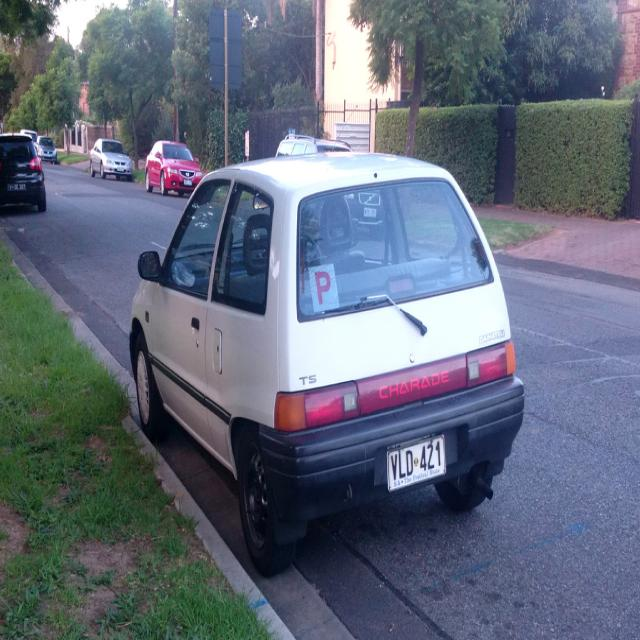car: (89, 135, 127, 175)
